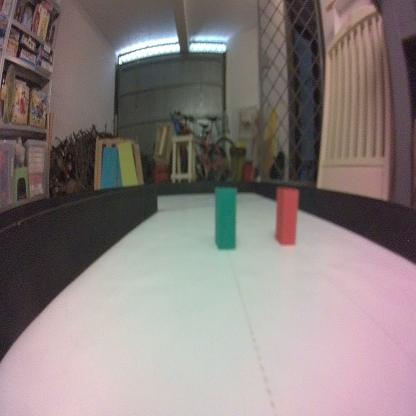green: (212, 184, 238, 252)
red: (274, 185, 298, 245)
